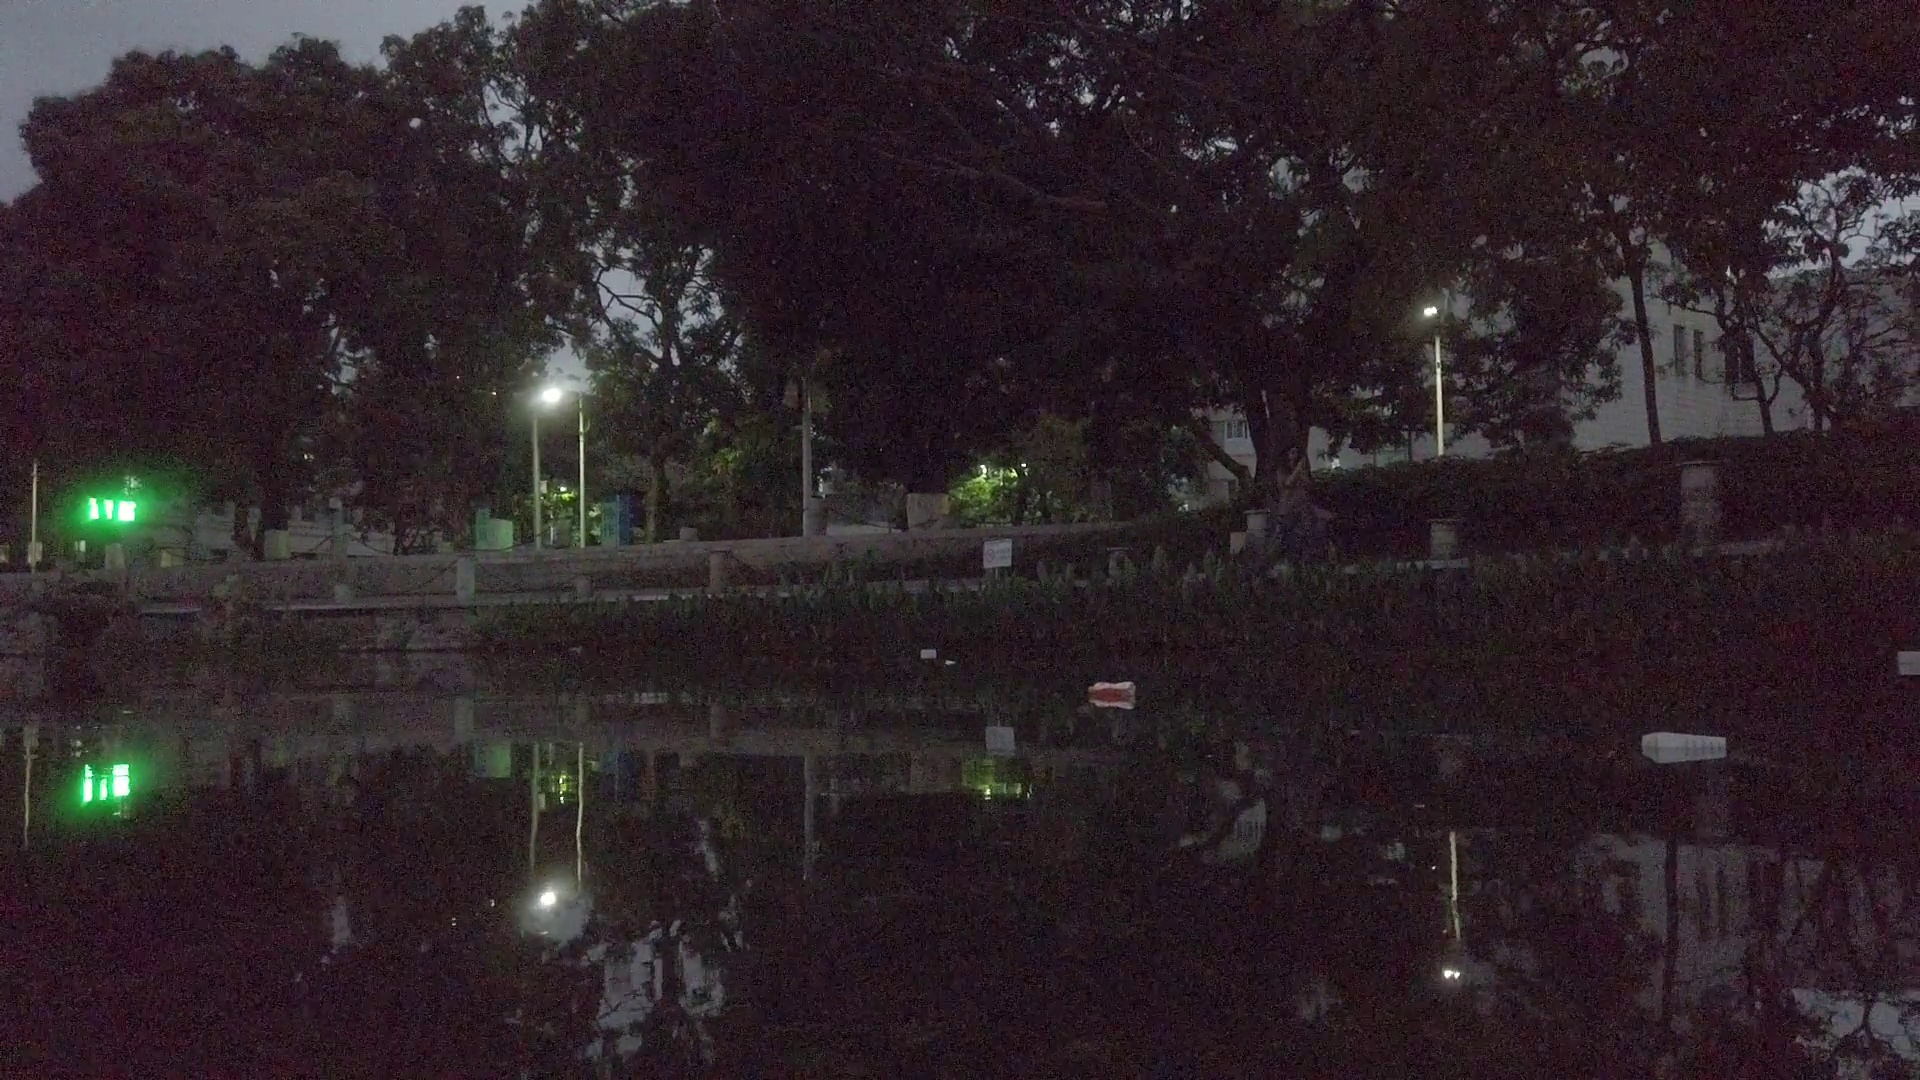bottle: (1087, 680, 1135, 702)
carton: (1644, 731, 1726, 764), (1892, 649, 1920, 669), (918, 650, 935, 659)
